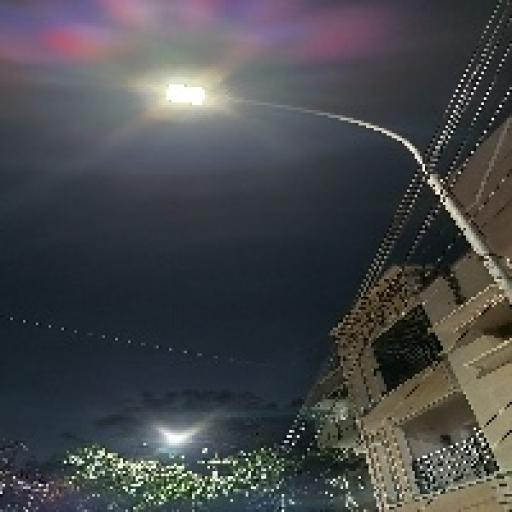Working: (152, 75, 211, 118)
